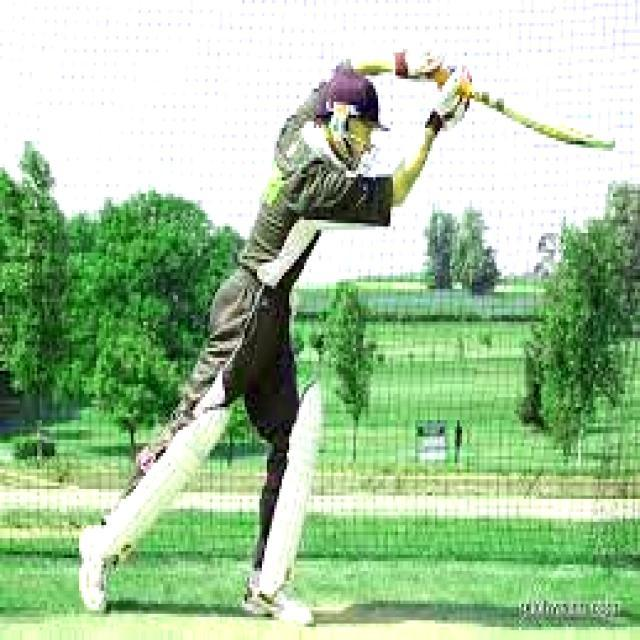bat: (469, 91, 610, 154)
